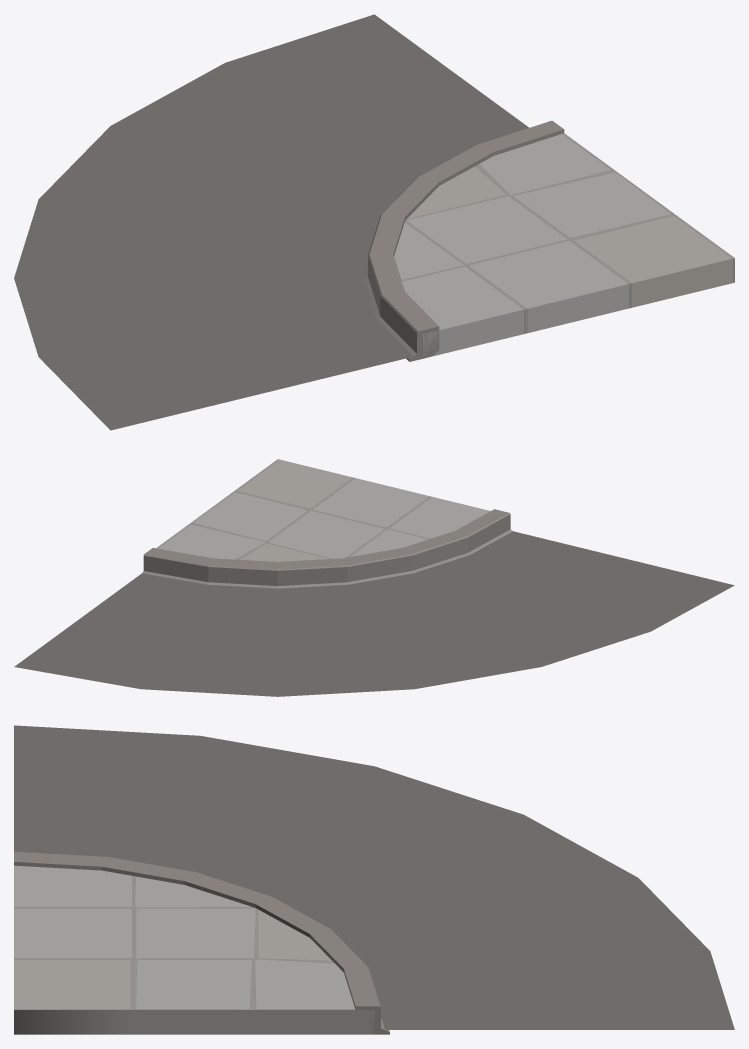
Rendered from Intersection Corner.fbx.
The picture shows the model from 3 angles, top to bottom: view 1: azimuth 30°, elevation 25°; view 2: azimuth 150°, elevation 25°; view 3: azimuth 270°, elevation 25°; orthographic projection. The views are drawn at different scales.
Visible parts, largest first — view 1: Road_02.001; view 2: Road_02.001; view 3: Road_02.001.
Boxes of the visible parts, x1=… form: Road_02.001: x1=14, y1=14, x2=734, y2=430; Road_02.001: x1=14, y1=459, x2=734, y2=696; Road_02.001: x1=14, y1=725, x2=734, y2=1034.
Size of the model in its own units: 600 by 600 by 26.04.
